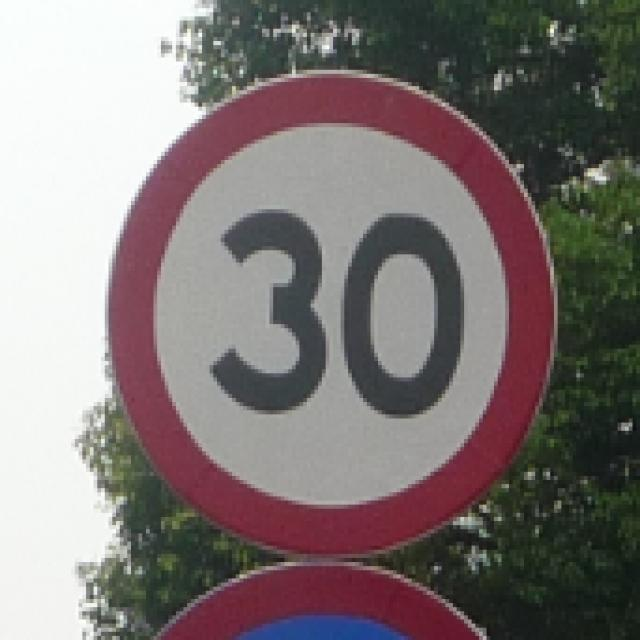Speed: (115, 82, 580, 568)
